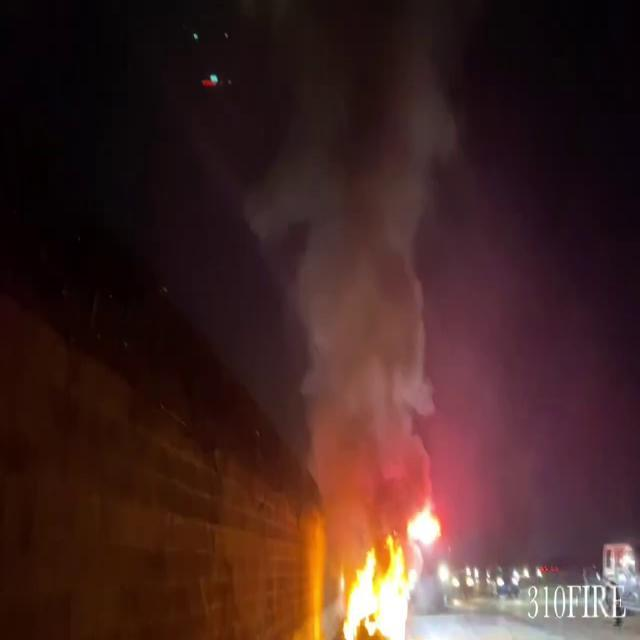Fire: (314, 493, 442, 640)
Smoke: (262, 12, 472, 514)
